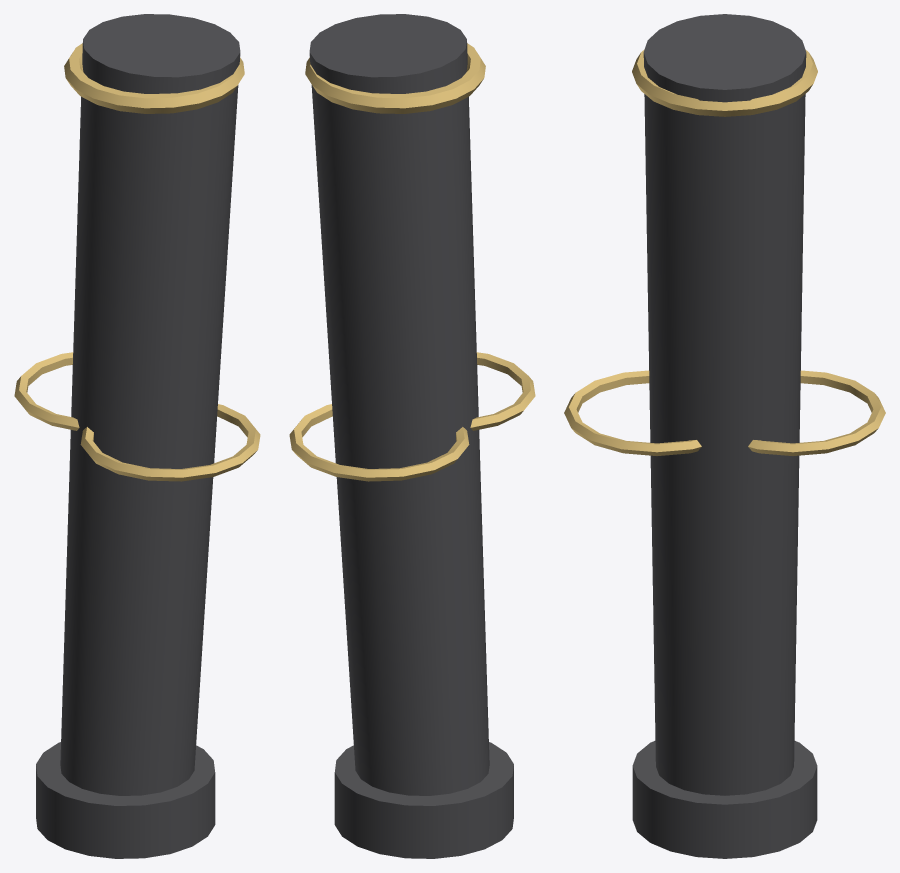
File: Funnel.glb
3 renders of one model, left to right at view 1: azimuth 30°, elevation 25°; view 2: azimuth 150°, elevation 25°; view 3: azimuth 270°, elevation 25°, orthographic. The views are drawn at different scales.
Parts seen in each view (by area): view 1: Funnel; view 2: Funnel; view 3: Funnel.
Boxes of the visible parts, x1=… form: Funnel: x1=14, y1=14, x2=260, y2=858; Funnel: x1=289, y1=14, x2=535, y2=858; Funnel: x1=564, y1=14, x2=885, y2=858.
Bounding box in the file's own units: 0.2569 × 1.02 × 0.3762.
